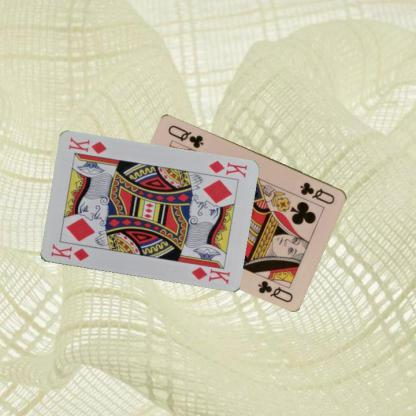Kd: (48, 241, 91, 263), (206, 158, 248, 179)
Qc: (298, 179, 336, 206)
